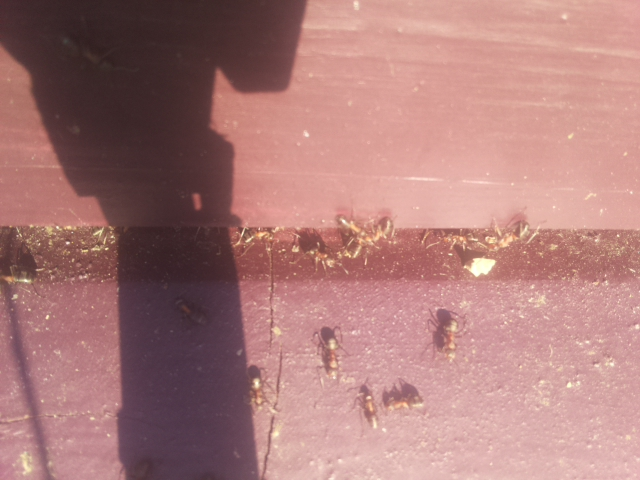ant: (48, 18, 120, 74), (290, 226, 341, 274), (327, 208, 378, 246), (432, 304, 463, 363), (491, 215, 533, 254), (354, 381, 383, 434), (315, 326, 341, 383), (169, 293, 209, 327), (245, 360, 269, 409), (118, 457, 157, 479)
